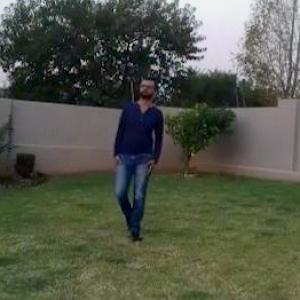follow: (107, 69, 166, 241)
